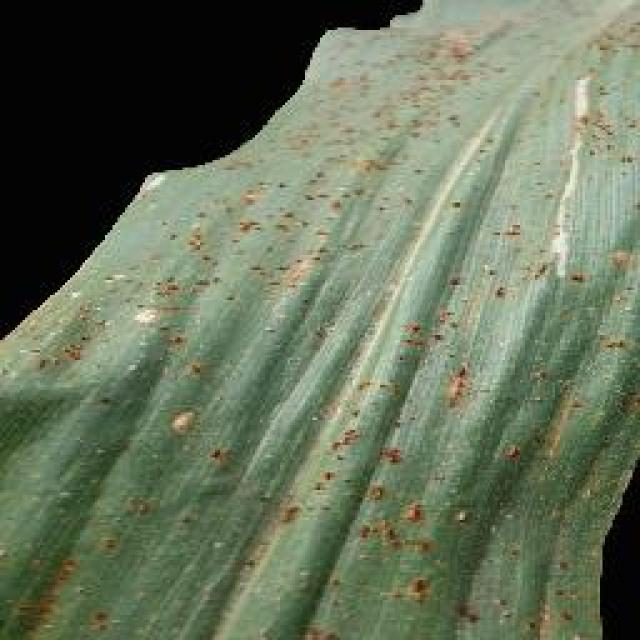Corn Common Rust: (94, 76, 598, 596)
